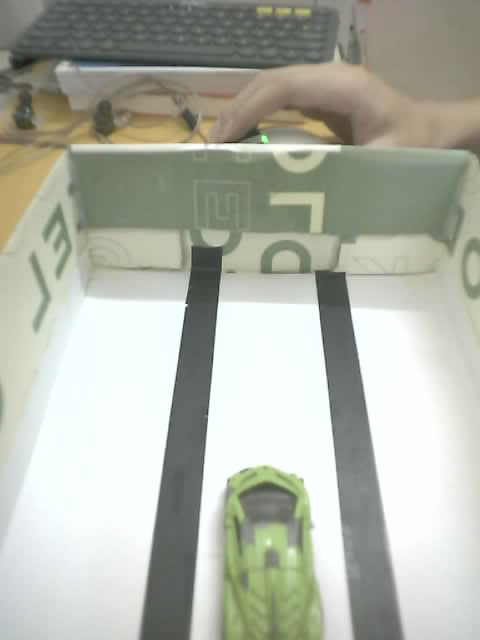vehicle: (216, 466, 324, 630)
